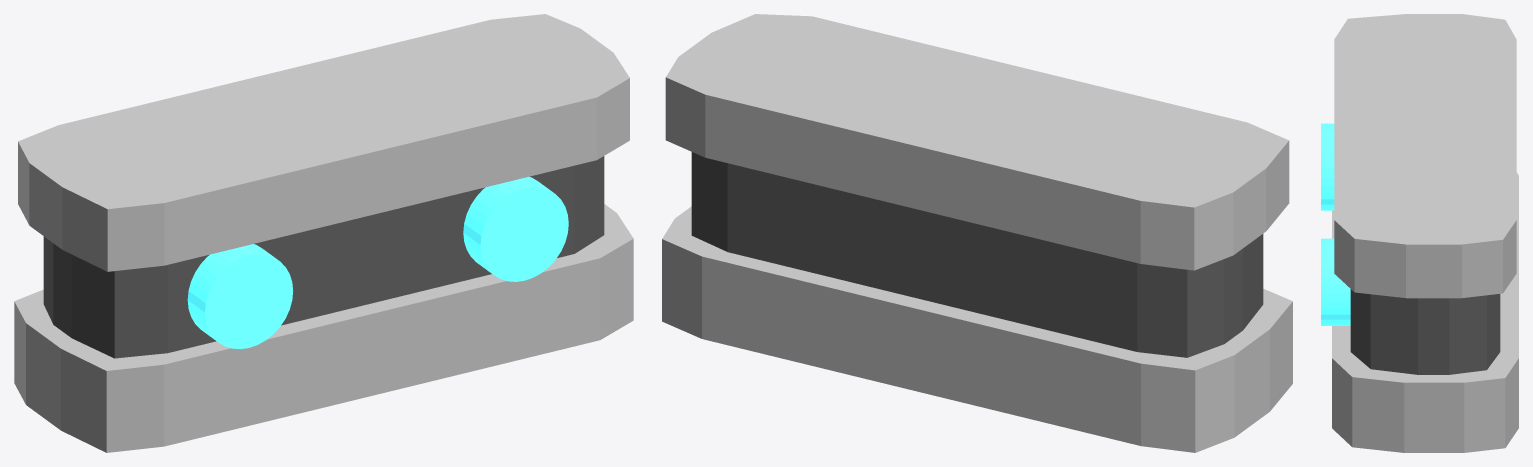
File: eyes10.glb
The picture shows the model from 3 angles, left to right: view 1: azimuth 30°, elevation 25°; view 2: azimuth 150°, elevation 25°; view 3: azimuth 270°, elevation 25°; orthographic projection. The views are drawn at different scales.
Parts seen in each view (by area): view 1: eyes10; view 2: eyes10; view 3: eyes10.
Part boxes in pixels (x1,y1,x2,y2): eyes10: (14, 14, 633, 452); eyes10: (662, 14, 1292, 452); eyes10: (1321, 14, 1518, 452).
Size of the model in its own units: 2.02 by 0.8396 by 0.7252.
